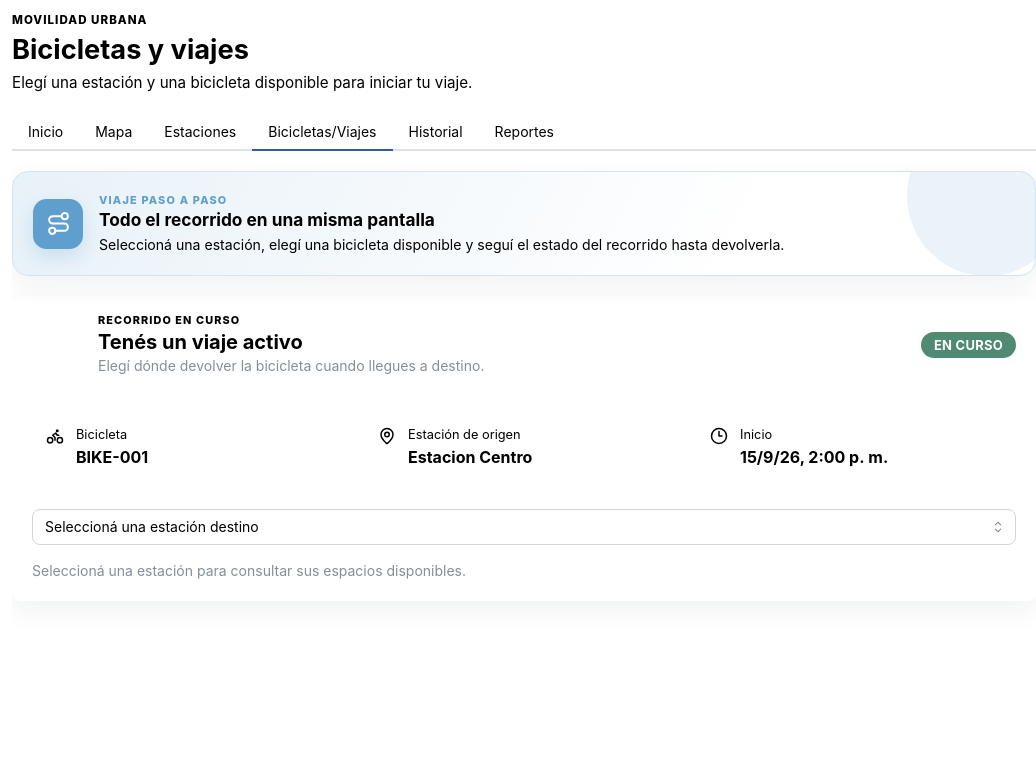
Test case: BicyclesPage › muestra un error si no puede consultar la disponibilidad del destino
Step 1. Select "Estacion Centro - Av. Corrientes 100" in the dropdown named "Estación destino" → x=524, y=527, box top-left (32, 509), bottom-right (1016, 545)
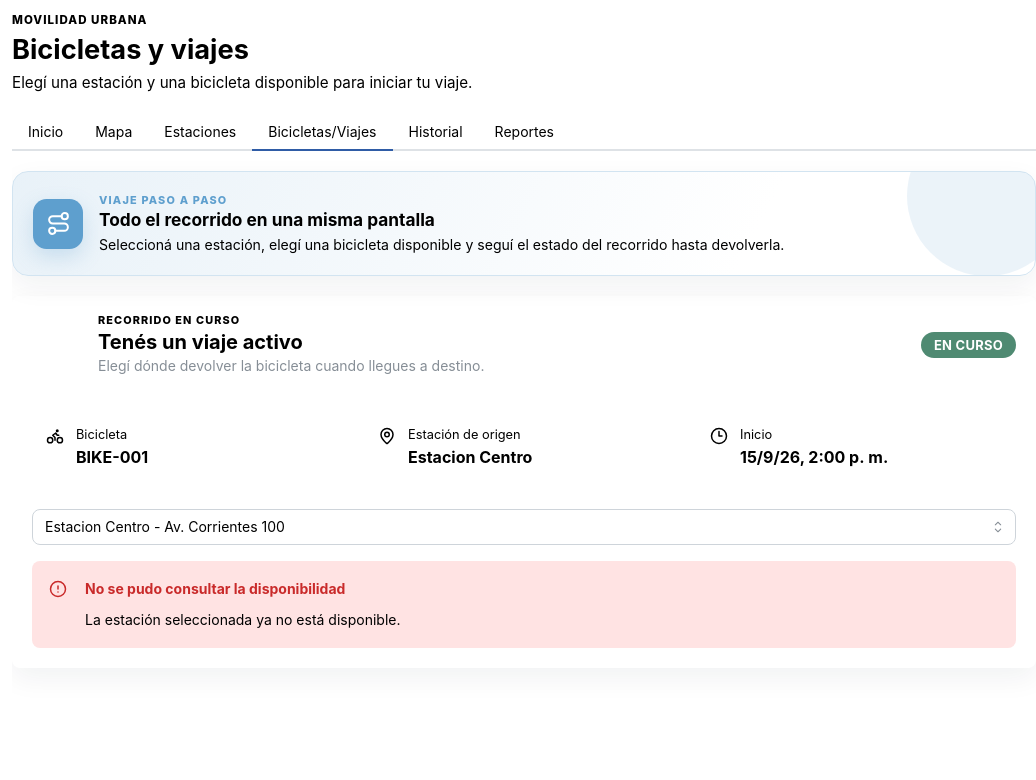
Expected: the text "La estación seleccionada ya no está disponible." is shown, top-left (85, 611), bottom-right (400, 628)
